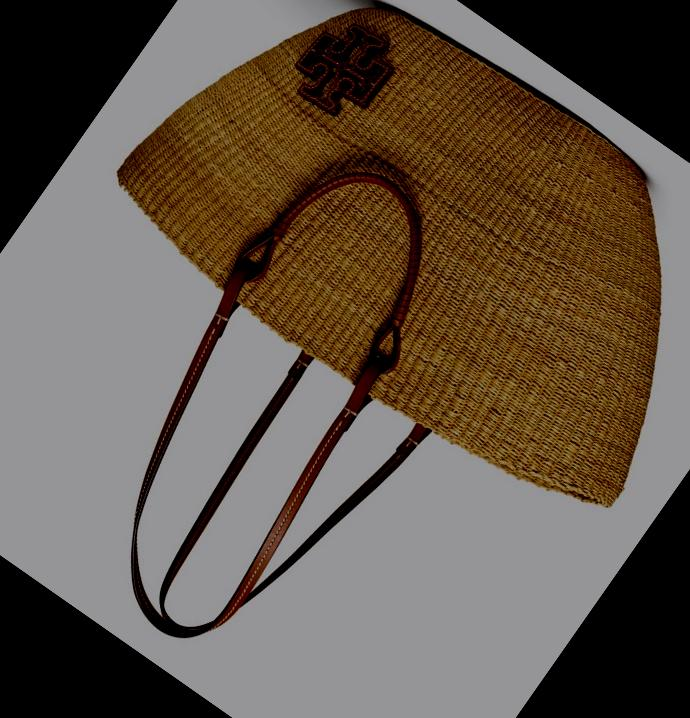TORY-BURCH: (280, 4, 402, 129)
